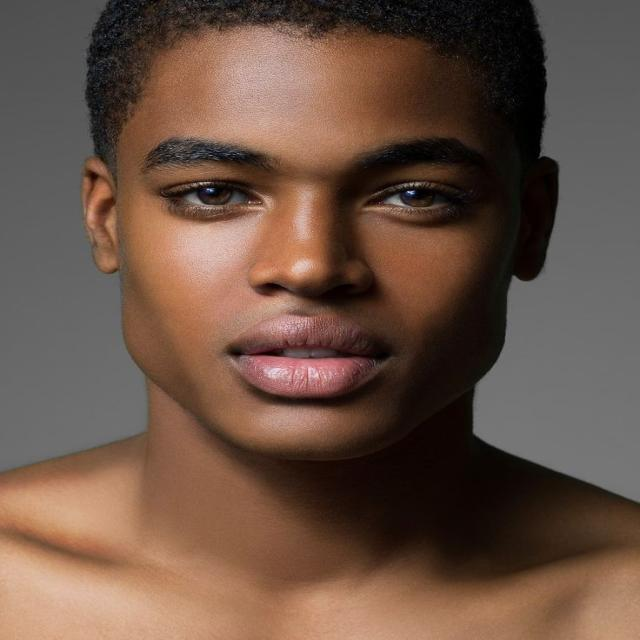front: (113, 74, 520, 442)
